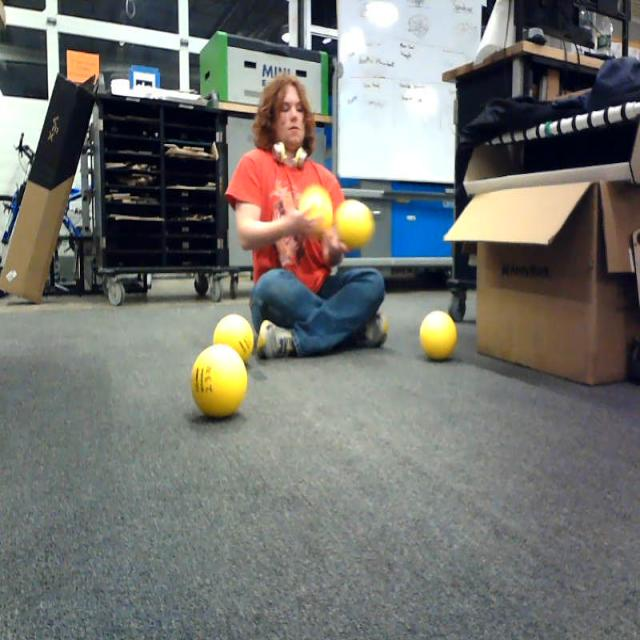Fuel: (191, 343, 248, 420), (212, 314, 254, 366), (419, 310, 458, 362), (336, 199, 375, 248), (298, 186, 333, 238)
